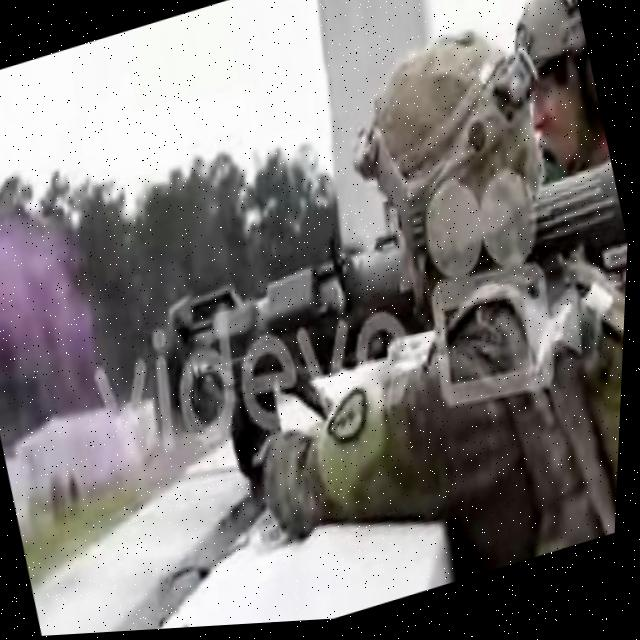rocket: (136, 201, 443, 449)
